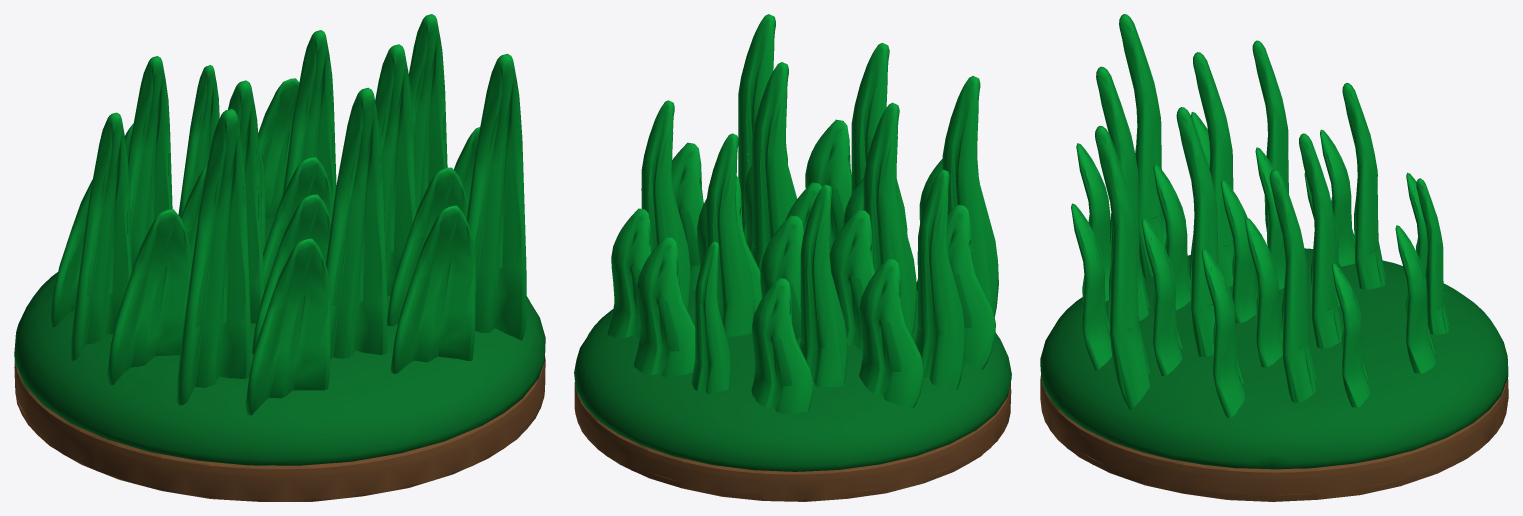
The model's file is grass-bush.glb.
The picture shows the model from 3 angles, left to right: view 1: azimuth 30°, elevation 25°; view 2: azimuth 150°, elevation 25°; view 3: azimuth 270°, elevation 25°; orthographic projection. The views are drawn at different scales.
Parts seen in each view (by area): view 1: Cylinder.007; view 2: Cylinder.007; view 3: Cylinder.007.
Part boxes in pixels (<box>): Cylinder.007: <box>14,14,545,501</box>; Cylinder.007: <box>574,14,1011,501</box>; Cylinder.007: <box>1040,14,1508,501</box>.
Bounding box in the file's own units: 1.27 × 1 × 1.27.
